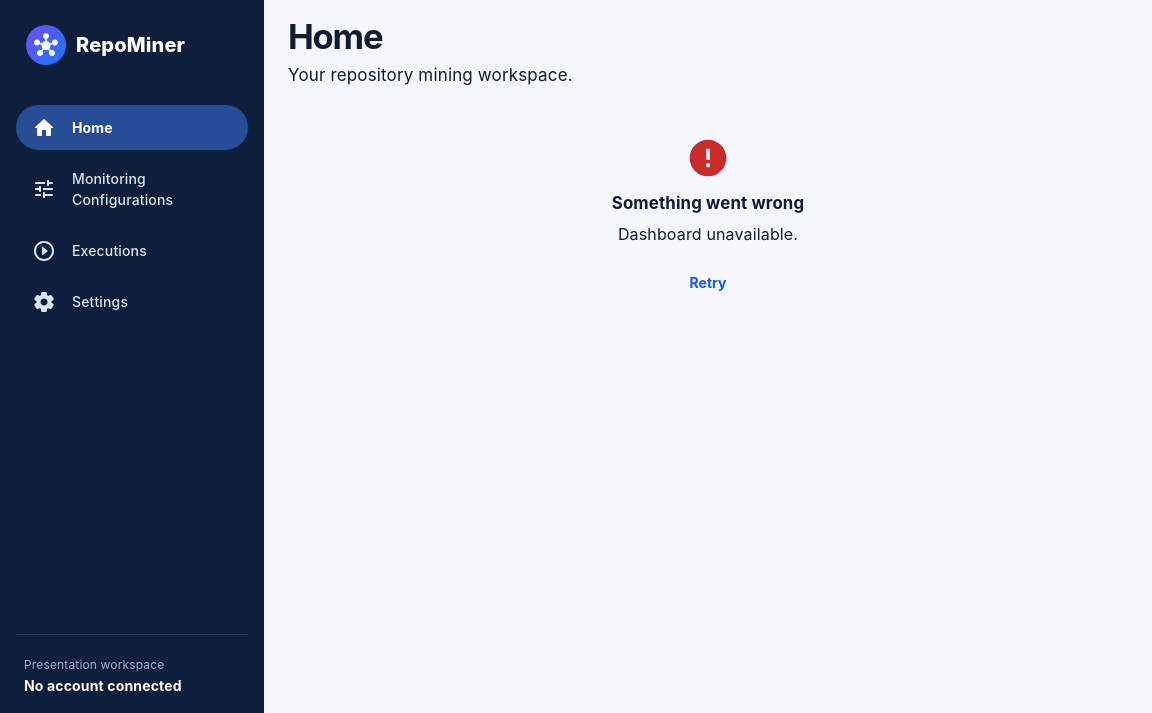
Test: shows honest empty metrics and safely recovers after an API failure
expect the text "Dashboard unavailable." is shown: met, box [612,222,804,246]
Step 1. Click the button "Retry" → (708, 283), box [676,262,740,304]
(page scrolled)
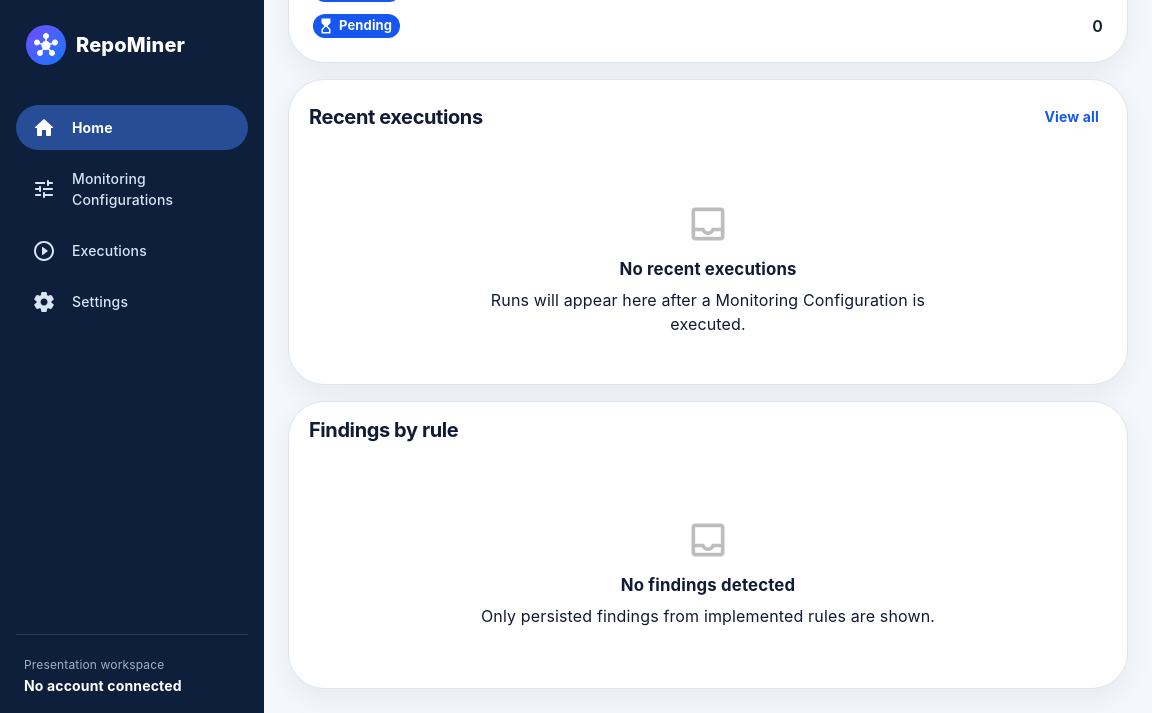
expect the heading "No recent executions" is shown: met, box [619,259,796,279]
expect the heading "No findings detected" is shown: met, box [621,575,795,595]
